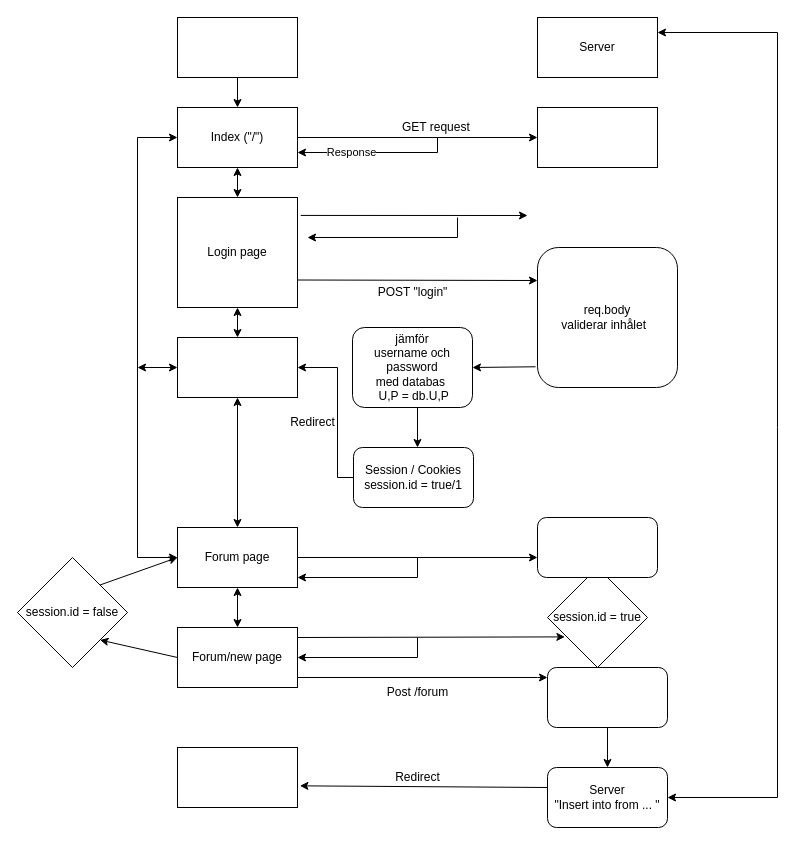
Image size: 804x845. Some labels were removed from this diagram. Here are the shapes that lost their labels. From the top down, the centre of each, then its label:
the point at 237,47: Client
the point at 597,137: Routes
the point at 237,367: Profile page
the point at 597,547: "Select * FROM forum" GET forum
the point at 607,697: req.body validera tvätta-data
the point at 237,777: Forum
